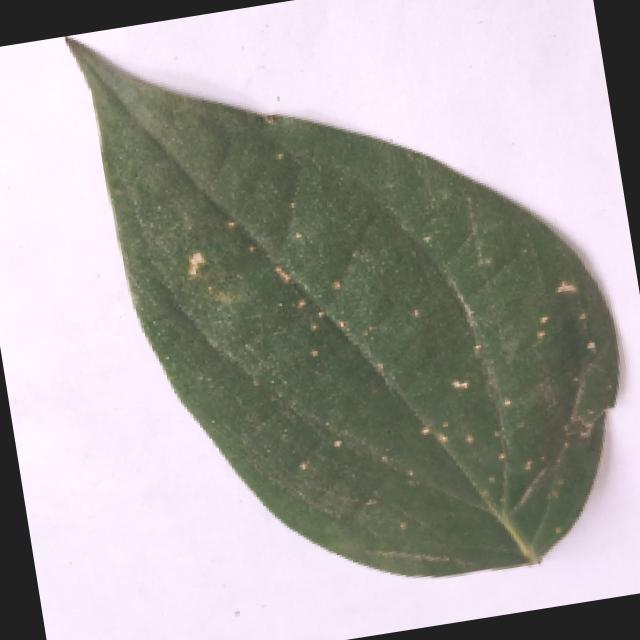pollu-disease: (47, 0, 640, 622)
